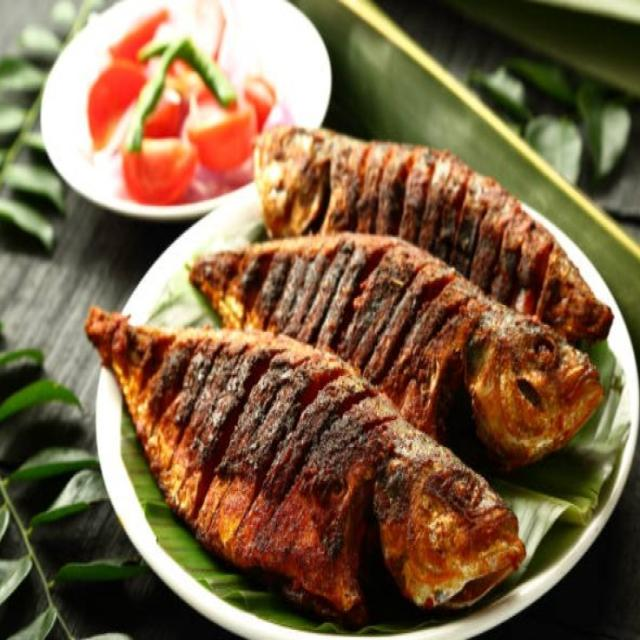FISH FRY: (85, 128, 610, 623), (313, 248, 320, 261)
